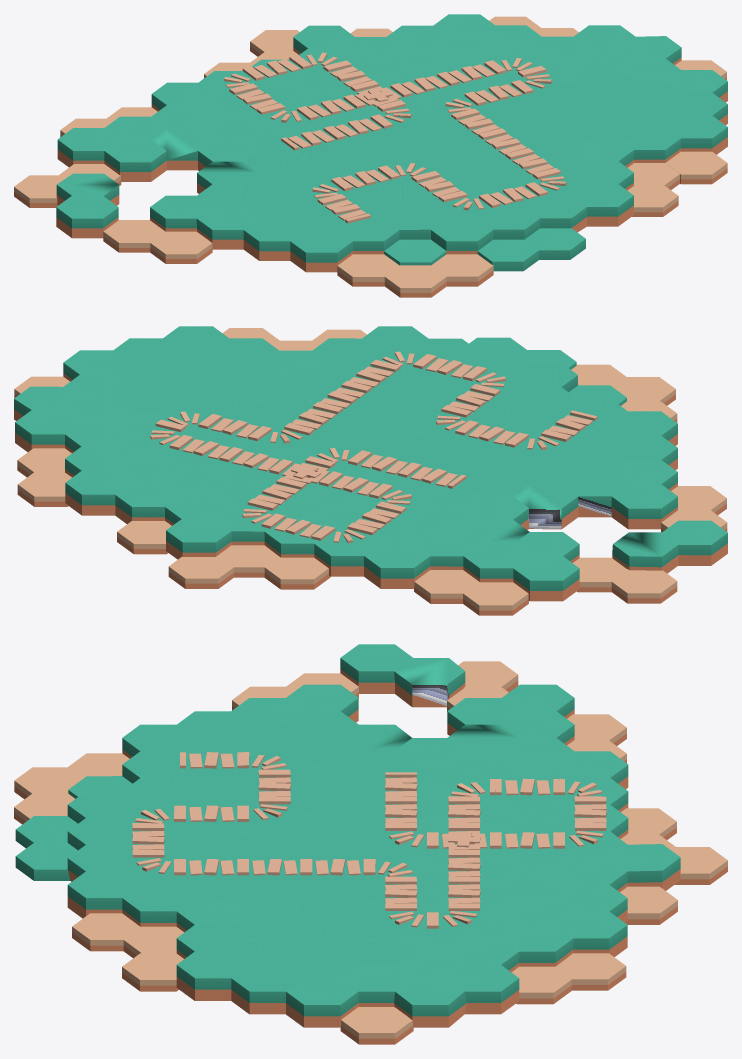
The model's file is map-ground.glb.
The picture shows the model from 3 angles, top to bottom: view 1: azimuth 30°, elevation 25°; view 2: azimuth 150°, elevation 25°; view 3: azimuth 270°, elevation 25°; orthographic projection. The views are drawn at different scales.
Parts seen in each view (by area): view 1: path_wood.016, grass.003, sand.001, sand.004, sand.015, sand.002, sand.003, sand, sand.016, sand.022, sand.013, sand.010 (+2 smaller); view 2: path_wood.016, sand.022, sand.023, sand.010, sand.008, sand.006, sand.012, sand.011, sand.007, sand.019, grass.003, sand.001 (+8 smaller); view 3: path_wood.016, grass.003, sand.014, sand.012, sand.016, sand.015, sand.009, sand.011, sand.010, sand.001, sand.013, sand.022 (+8 smaller).
Part boxes in pixels (left/top/right/bottom): path_wood.016: left=56, top=14, right=727, bottom=272; grass.003: left=477, top=228, right=585, bottom=271; sand.001: left=384, top=265, right=446, bottom=297; sand.004: left=150, top=231, right=212, bottom=263; sand.015: left=665, top=151, right=727, bottom=184; sand.002: left=337, top=254, right=399, bottom=286; sand.003: left=103, top=220, right=164, bottom=252; sand: left=431, top=254, right=493, bottom=286; sand.016: left=627, top=185, right=678, bottom=216; sand.022: left=14, top=175, right=64, bottom=207; sand.013: left=628, top=163, right=679, bottom=189; sand.010: left=250, top=30, right=299, bottom=56; path_wood.016: left=14, top=326, right=727, bottom=601; sand.022: left=611, top=569, right=677, bottom=603; sand.023: left=463, top=582, right=528, bottom=615; sand.010: left=168, top=555, right=234, bottom=588; sand.008: left=264, top=556, right=330, bottom=589; sand.006: left=414, top=570, right=478, bottom=603; sand.012: left=17, top=472, right=71, bottom=506; sand.011: left=117, top=521, right=171, bottom=554; sand.007: left=217, top=545, right=279, bottom=577; sand.019: left=573, top=557, right=627, bottom=592; grass.003: left=469, top=337, right=576, bottom=369; sand.001: left=613, top=377, right=675, bottom=405; path_wood.016: left=67, top=644, right=680, bottom=1027; grass.003: left=15, top=816, right=77, bottom=880; sand.014: left=340, top=1007, right=413, bottom=1044; sand.012: left=555, top=953, right=626, bottom=990; sand.016: left=72, top=913, right=143, bottom=951; sand.015: left=122, top=953, right=183, bottom=991; sand.009: left=511, top=966, right=571, bottom=1004; sand.011: left=620, top=886, right=677, bottom=924; sand.010: left=670, top=847, right=727, bottom=884; sand.001: left=14, top=767, right=83, bottom=799; sand.013: left=123, top=926, right=183, bottom=958; sand.022: left=458, top=661, right=518, bottom=692.
Size of the model in its own units: 13.98 by 0.5674 by 11.3.
Materials: 181 (123 with a texture image).
